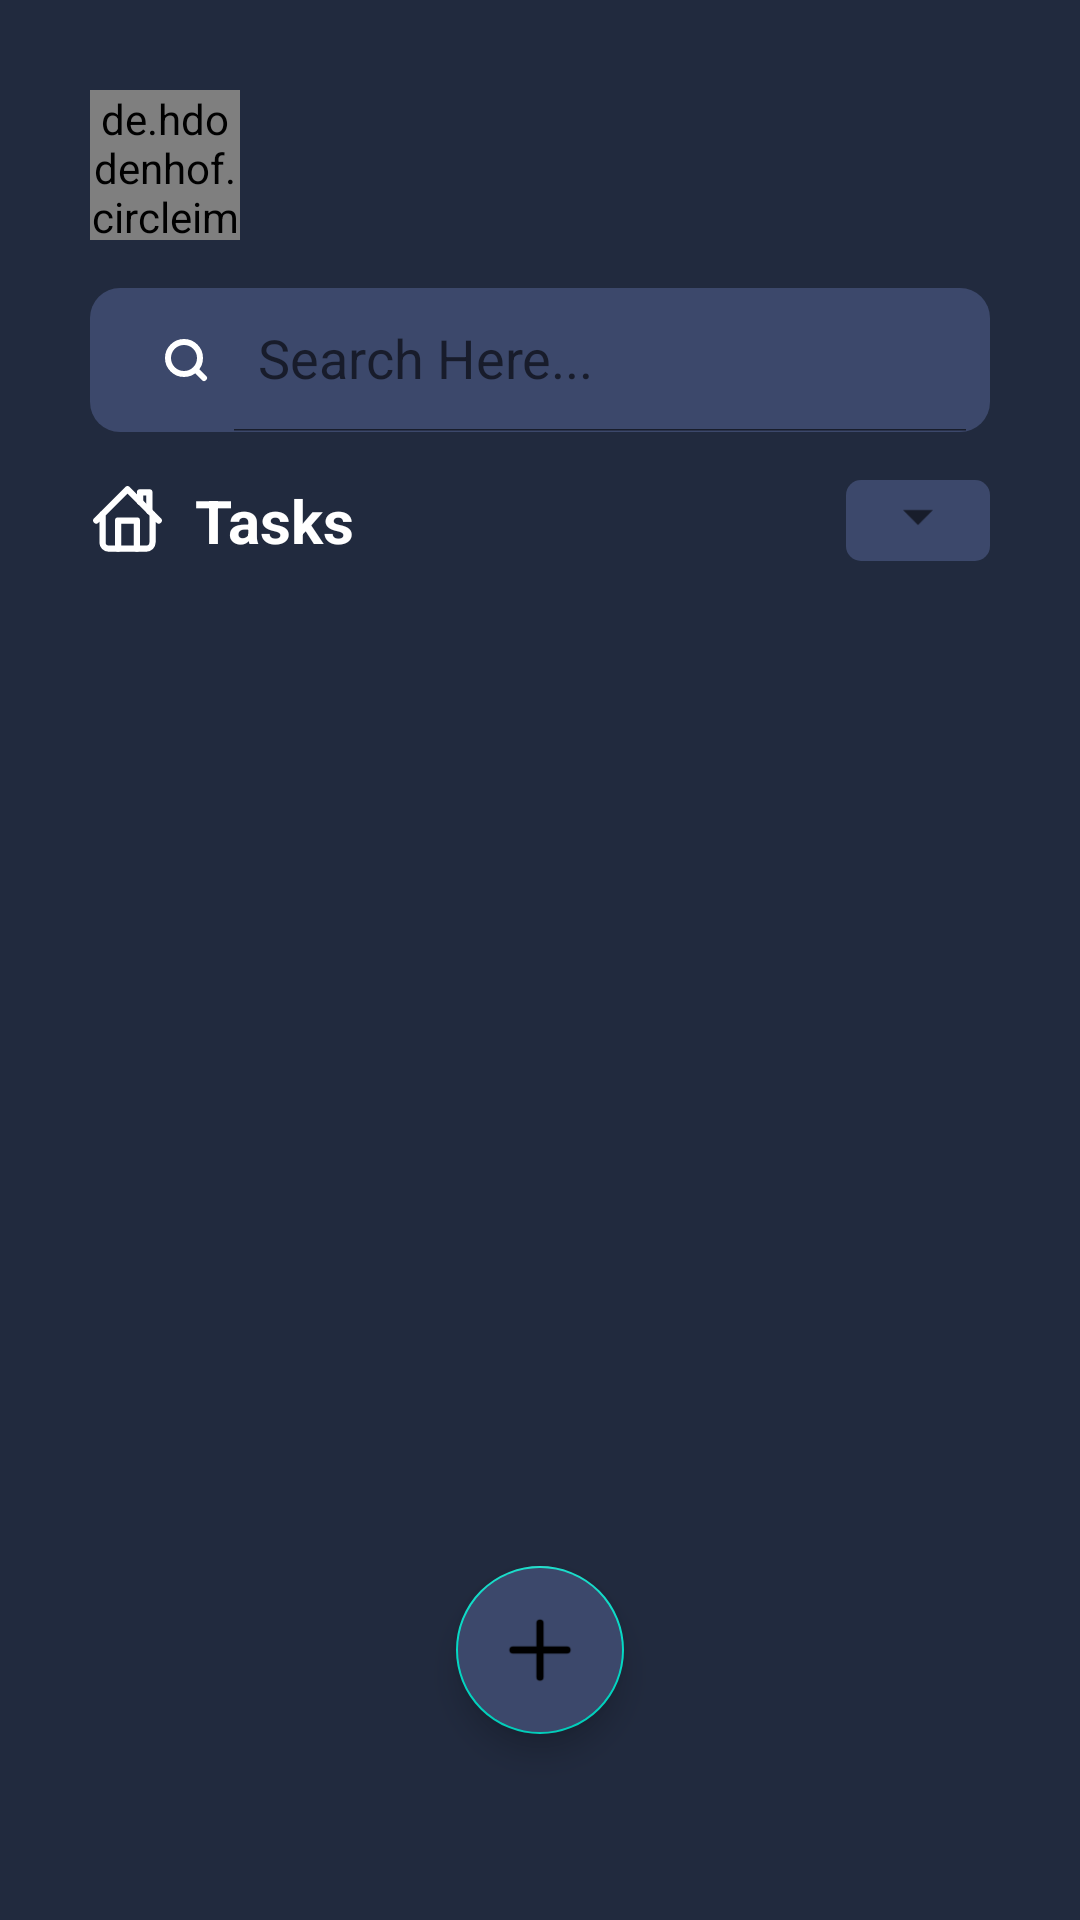

Screen size 1080px x 1920px. Icon name, then its center in pixels as (x=x, y=y):
Floating Button to Add Task: (x=540, y=1650)
home house: (x=127, y=519)
